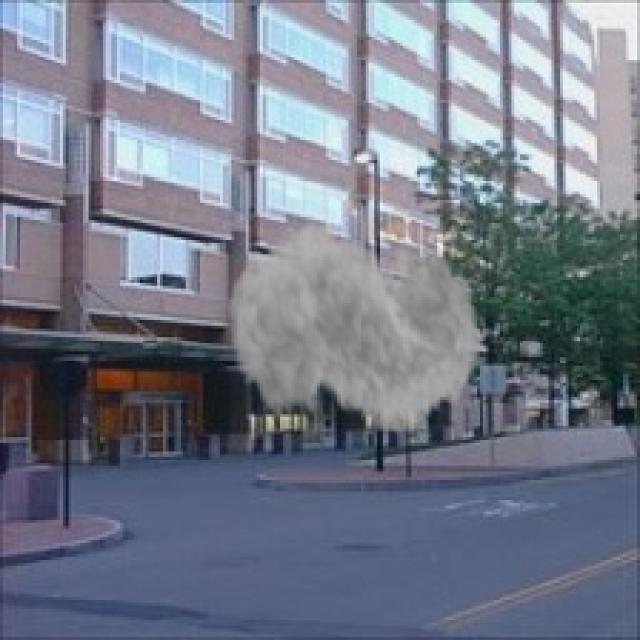Smoke: (226, 200, 483, 463)
